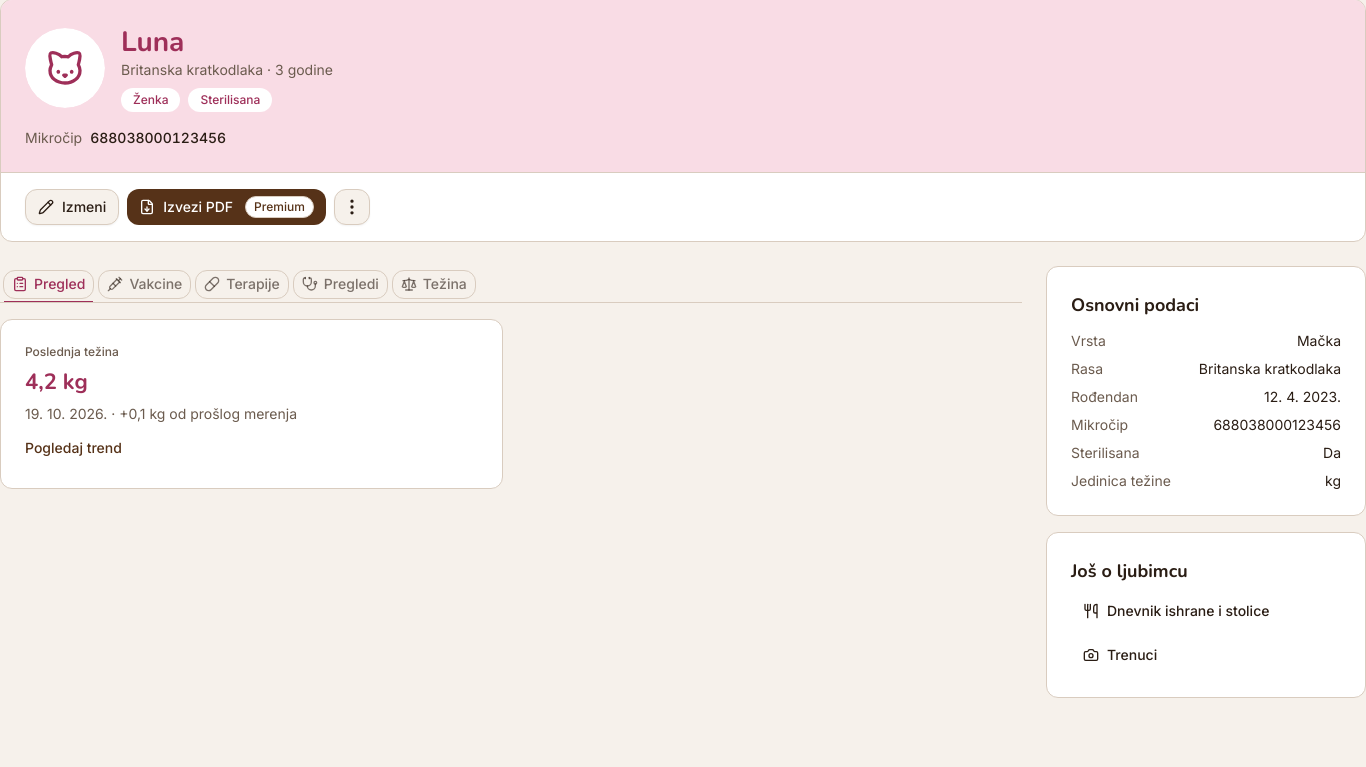
FR-04 — weight history as a trend › lists all measurements newest first with their notes
Click the tab "Težina".
click(434, 284)  # box [392,270,476,298]
(page scrolled)
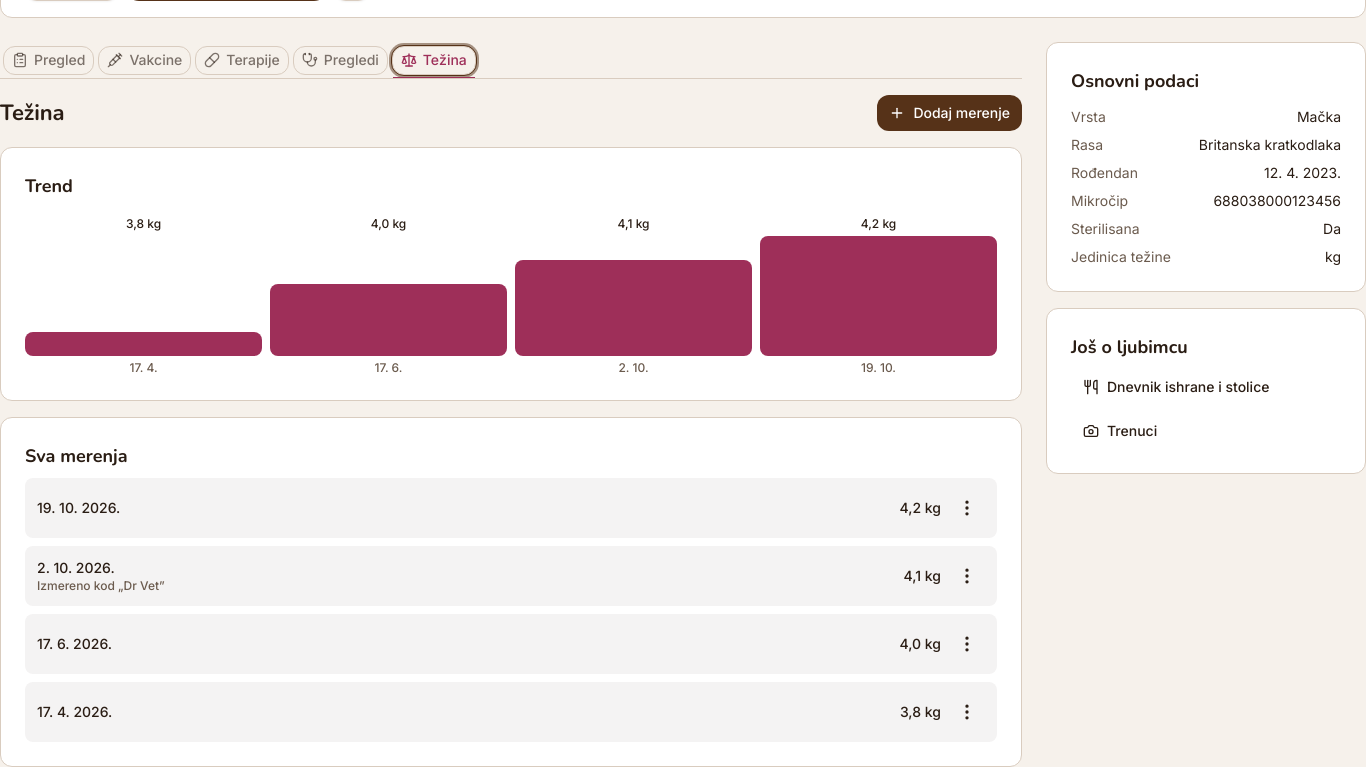
Result: the list item "2. 10. 2026. Izmereno kod „Dr Vet” 4,1 kg" is shown at [25,546,997,606]
